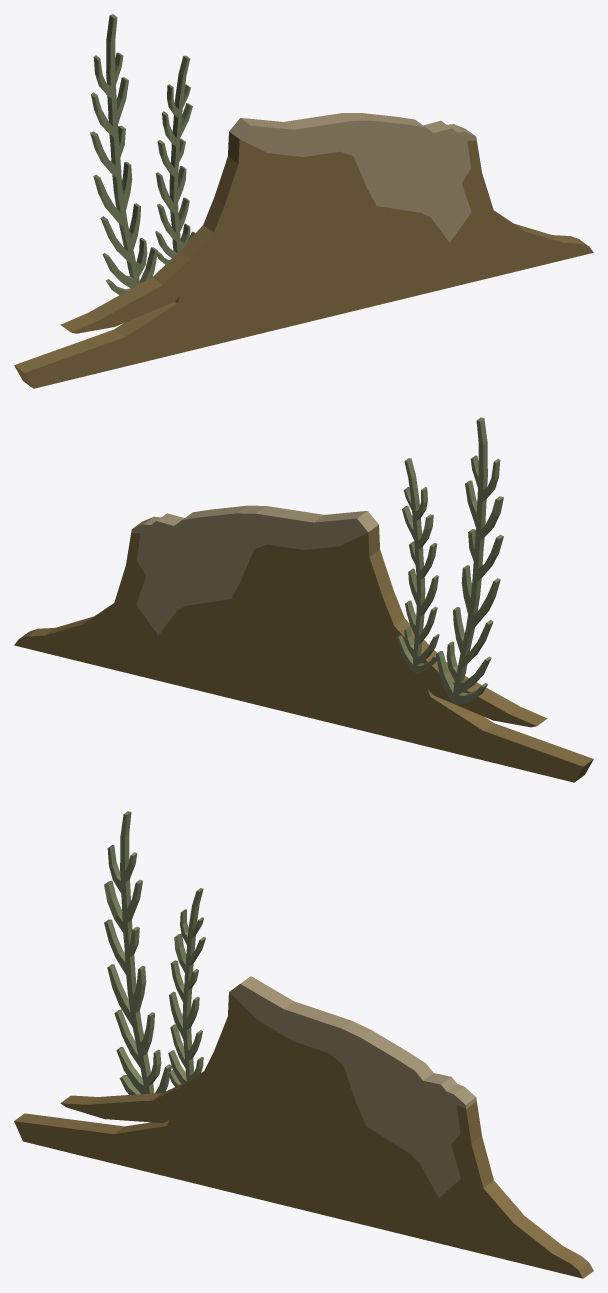
Rendered from Wood_Log_1.fbx.
3 renders of one model, top to bottom at view 1: azimuth 30°, elevation 25°; view 2: azimuth 150°, elevation 25°; view 3: azimuth 330°, elevation 25°, orthographic.
Visible parts, largest first — view 1: pPlane4, pPlane6, pPlane7; view 2: pPlane4, pPlane6, pPlane7; view 3: pPlane4, pPlane6, pPlane7.
Part boxes in pixels (bbox=[...]): pPlane4: bbox=[14, 113, 593, 388]; pPlane6: bbox=[90, 14, 157, 295]; pPlane7: bbox=[155, 55, 195, 264]; pPlane4: bbox=[14, 505, 593, 782]; pPlane6: bbox=[436, 417, 503, 704]; pPlane7: bbox=[396, 458, 439, 673]; pPlane4: bbox=[14, 976, 593, 1278]; pPlane6: bbox=[104, 811, 171, 1094]; pPlane7: bbox=[168, 888, 205, 1086].
Bounding box in the file's own units: 4.84 × 2.78 × 0.2266.
